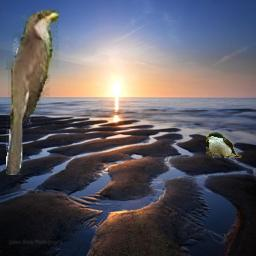Cuckoo: (6, 10, 59, 175)
Swallow: (206, 132, 242, 158)
